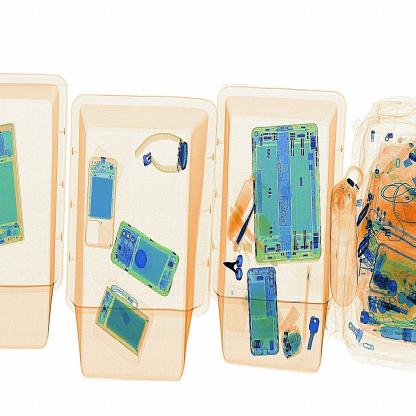gun: (214, 255, 250, 292)
